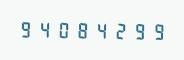eight: (71, 19, 88, 39)
four: (89, 19, 106, 40), (35, 19, 52, 39)
nine: (143, 20, 160, 41), (17, 18, 34, 38), (125, 20, 142, 40)
two: (107, 20, 124, 40)
zero: (53, 19, 70, 39)
